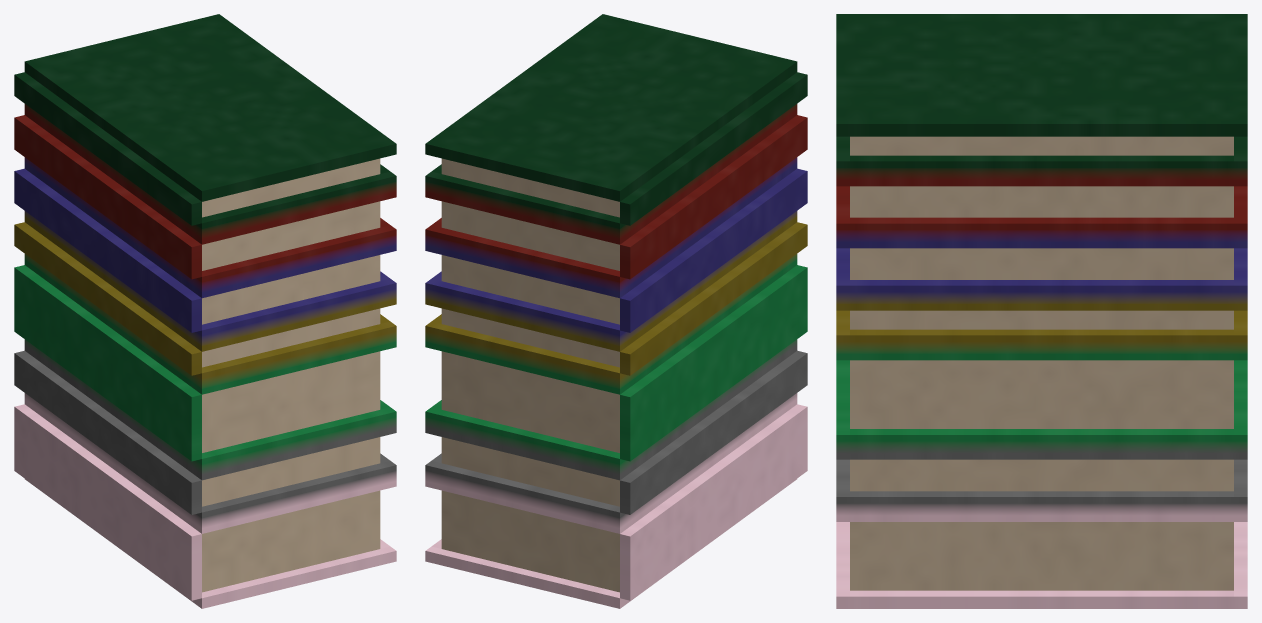
Rendered from SmallObject_Books.fbx.
3 renders of one model, left to right at view 1: azimuth 30°, elevation 25°; view 2: azimuth 150°, elevation 25°; view 3: azimuth 270°, elevation 25°, orthographic. The views are drawn at different scales.
Visible parts, largest first — view 1: Books; view 2: Books; view 3: Books.
Boxes of the visible parts, left/top/right/bottom form: Books: left=14, top=14, right=396, bottom=608; Books: left=425, top=14, right=807, bottom=608; Books: left=836, top=14, right=1247, bottom=608.
Size of the model in its own units: 20 by 39 by 30.
